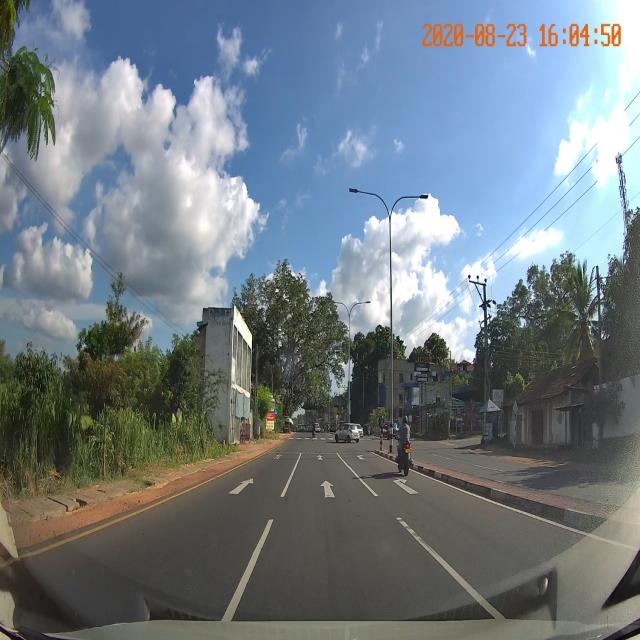forward: (266, 466, 404, 520)
